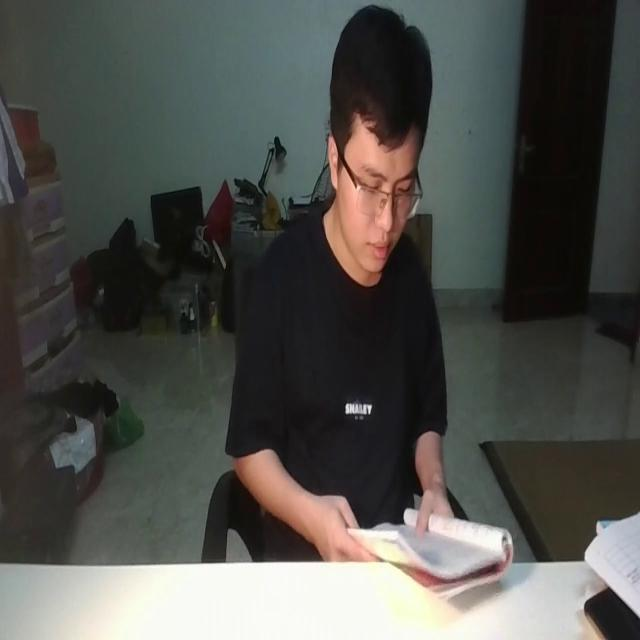book: (340, 505, 512, 608)
student: (227, 1, 460, 571)
